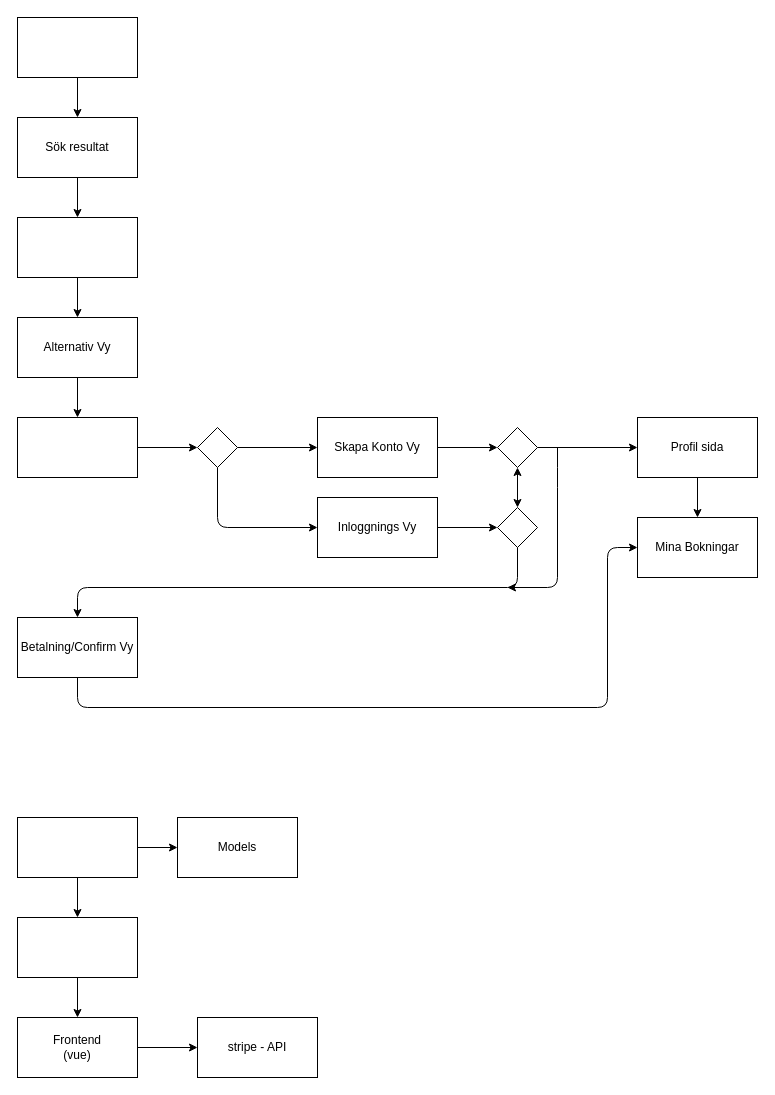
Image size: 775x1095. Some labels were removed from this diagram. The shapes that lost their labels are listed below. From the top down, each one's box as (x1, y1, x2, y2) in pixels, then its label:
(16, 16, 138, 78): Landing Page Sökning av resmål
(16, 216, 138, 278): Hotell Vy
(16, 416, 138, 478): Boknings Vy
(16, 816, 138, 878): Backend
(16, 916, 138, 978): vue - API
